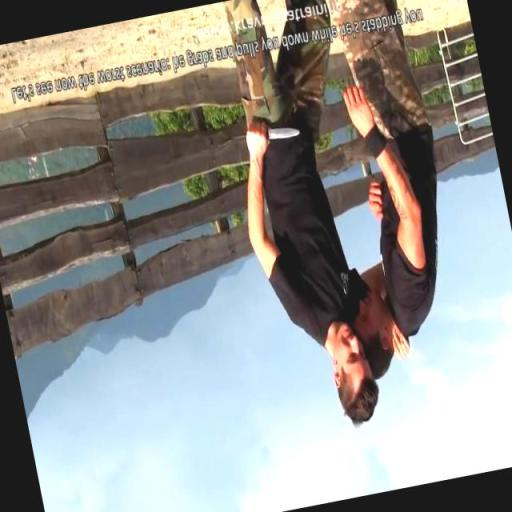knife: (239, 102, 307, 156)
